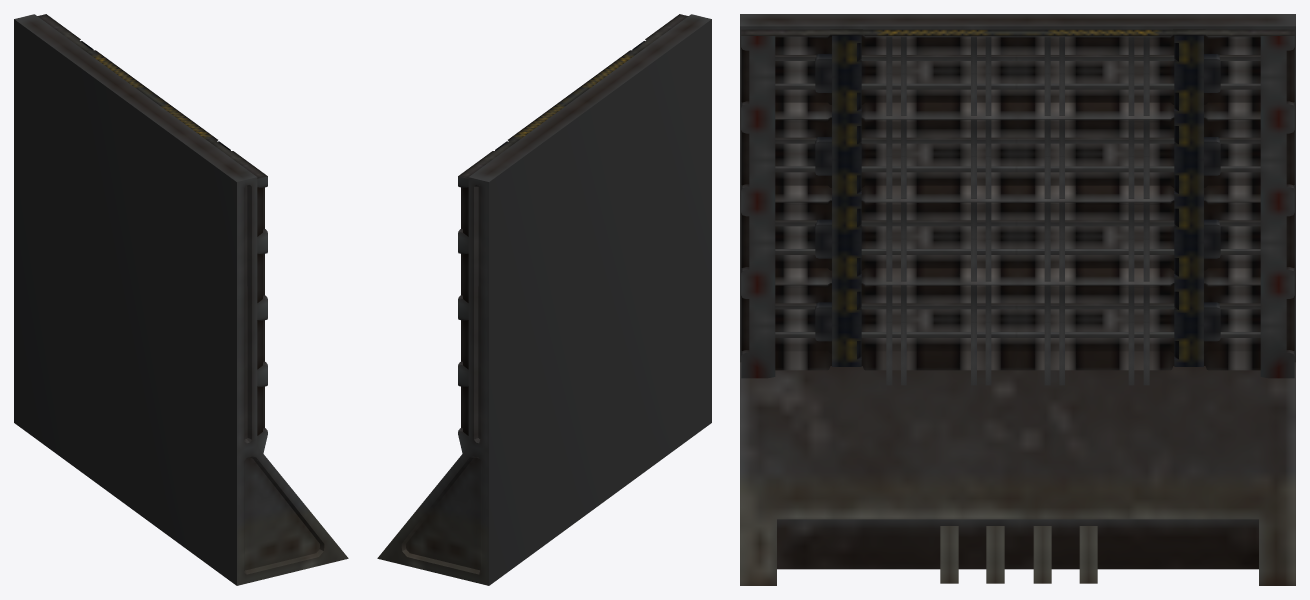
File: Wall_06.FBX
The picture shows the model from 3 angles, left to right: view 1: azimuth 30°, elevation 25°; view 2: azimuth 150°, elevation 25°; view 3: azimuth 270°, elevation 25°; orthographic projection. The views are drawn at different scales.
Parts seen in each view (by area): view 1: Wall_06; view 2: Wall_06; view 3: Wall_06.
Boxes of the visible parts, x1,y1,x2,y2 form: Wall_06: (14, 14, 348, 585); Wall_06: (377, 14, 711, 585); Wall_06: (740, 14, 1295, 585).
Bounding box in the file's own units: 87.08 × 300 × 300.
